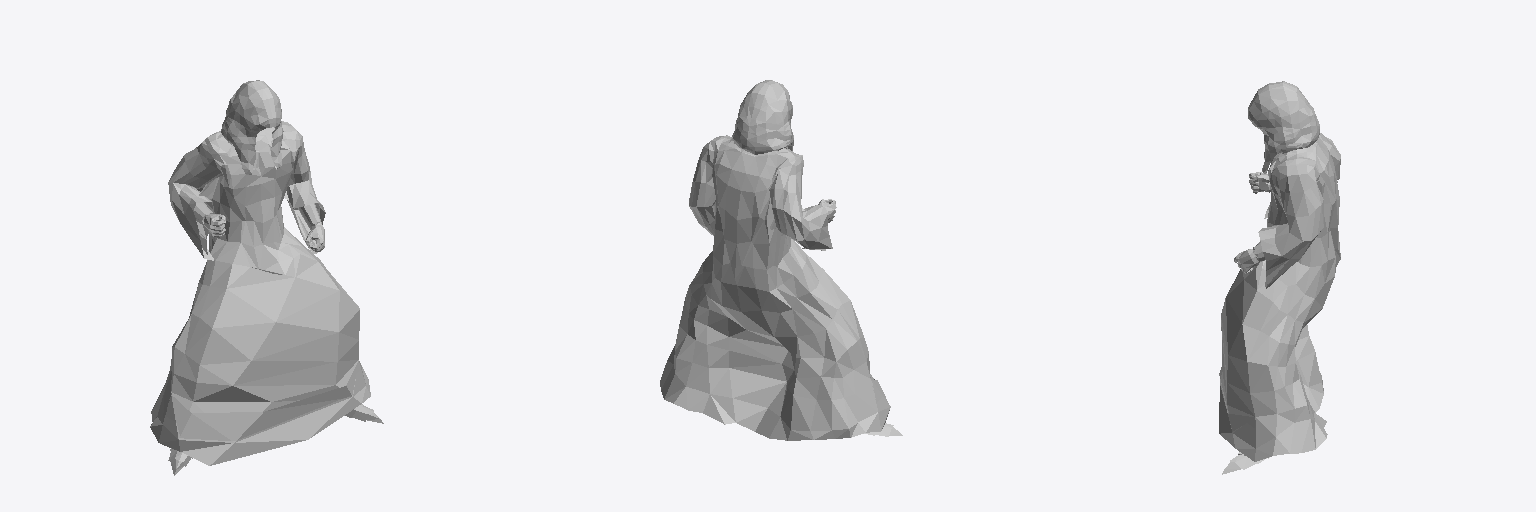
The model's file is Rider_FlyAnim_2.obj.
The picture shows the model from 3 angles: view 1: azimuth 30°, elevation 25°; view 2: azimuth 150°, elevation 25°; view 3: azimuth 270°, elevation 25°; orthographic projection.
Parts seen in each view (by area): view 1: dm_nazgulrobe_ride, dm_nazgulrobe_ride.1, dm_nazgulrobe_ride.2; view 2: dm_nazgulrobe_ride; view 3: dm_nazgulrobe_ride, dm_nazgulrobe_ride.1.
Part boxes in pixels (x1,y1,x2,y2): dm_nazgulrobe_ride: (150,80,370,465); dm_nazgulrobe_ride.1: (193,202,324,251); dm_nazgulrobe_ride.2: (168,404,383,475); dm_nazgulrobe_ride: (660,80,890,440); dm_nazgulrobe_ride: (1219,81,1340,461); dm_nazgulrobe_ride.1: (1234,172,1270,273).
Bounding box in the file's own units: 0.2182 × 0.3323 × 0.1058.